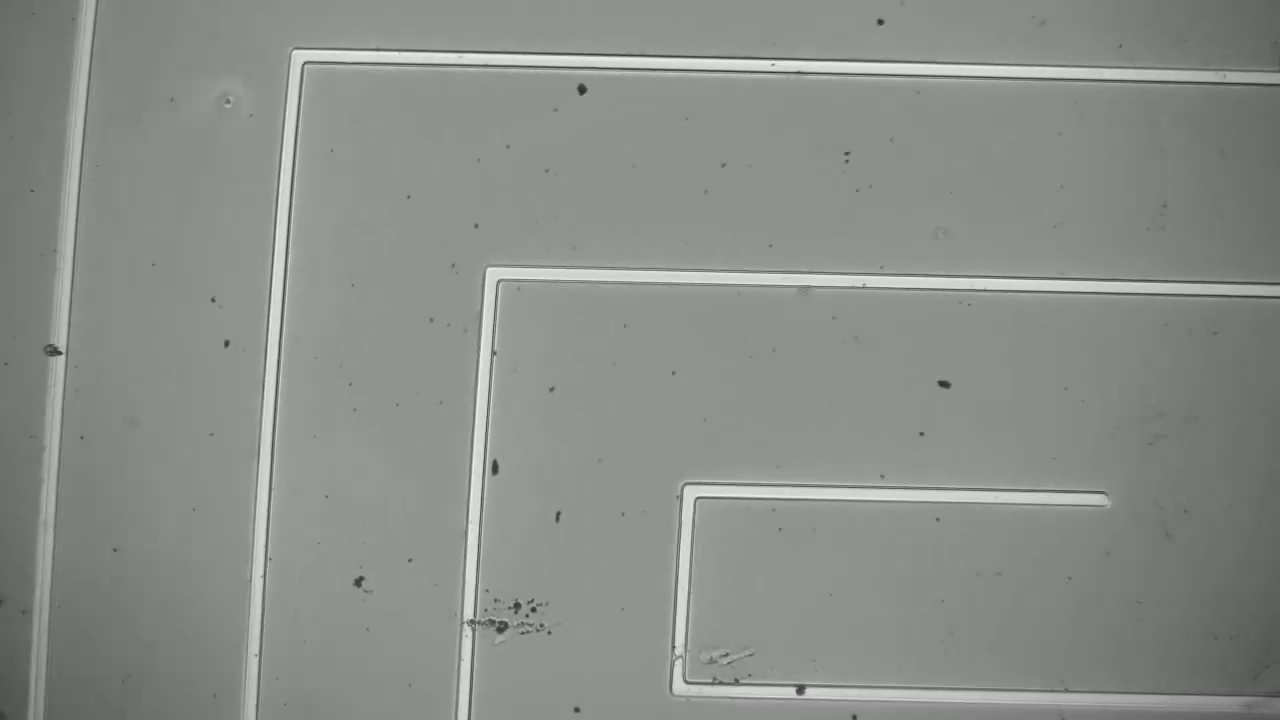stains_enbedded: (39, 328, 73, 365), (783, 676, 815, 711)
